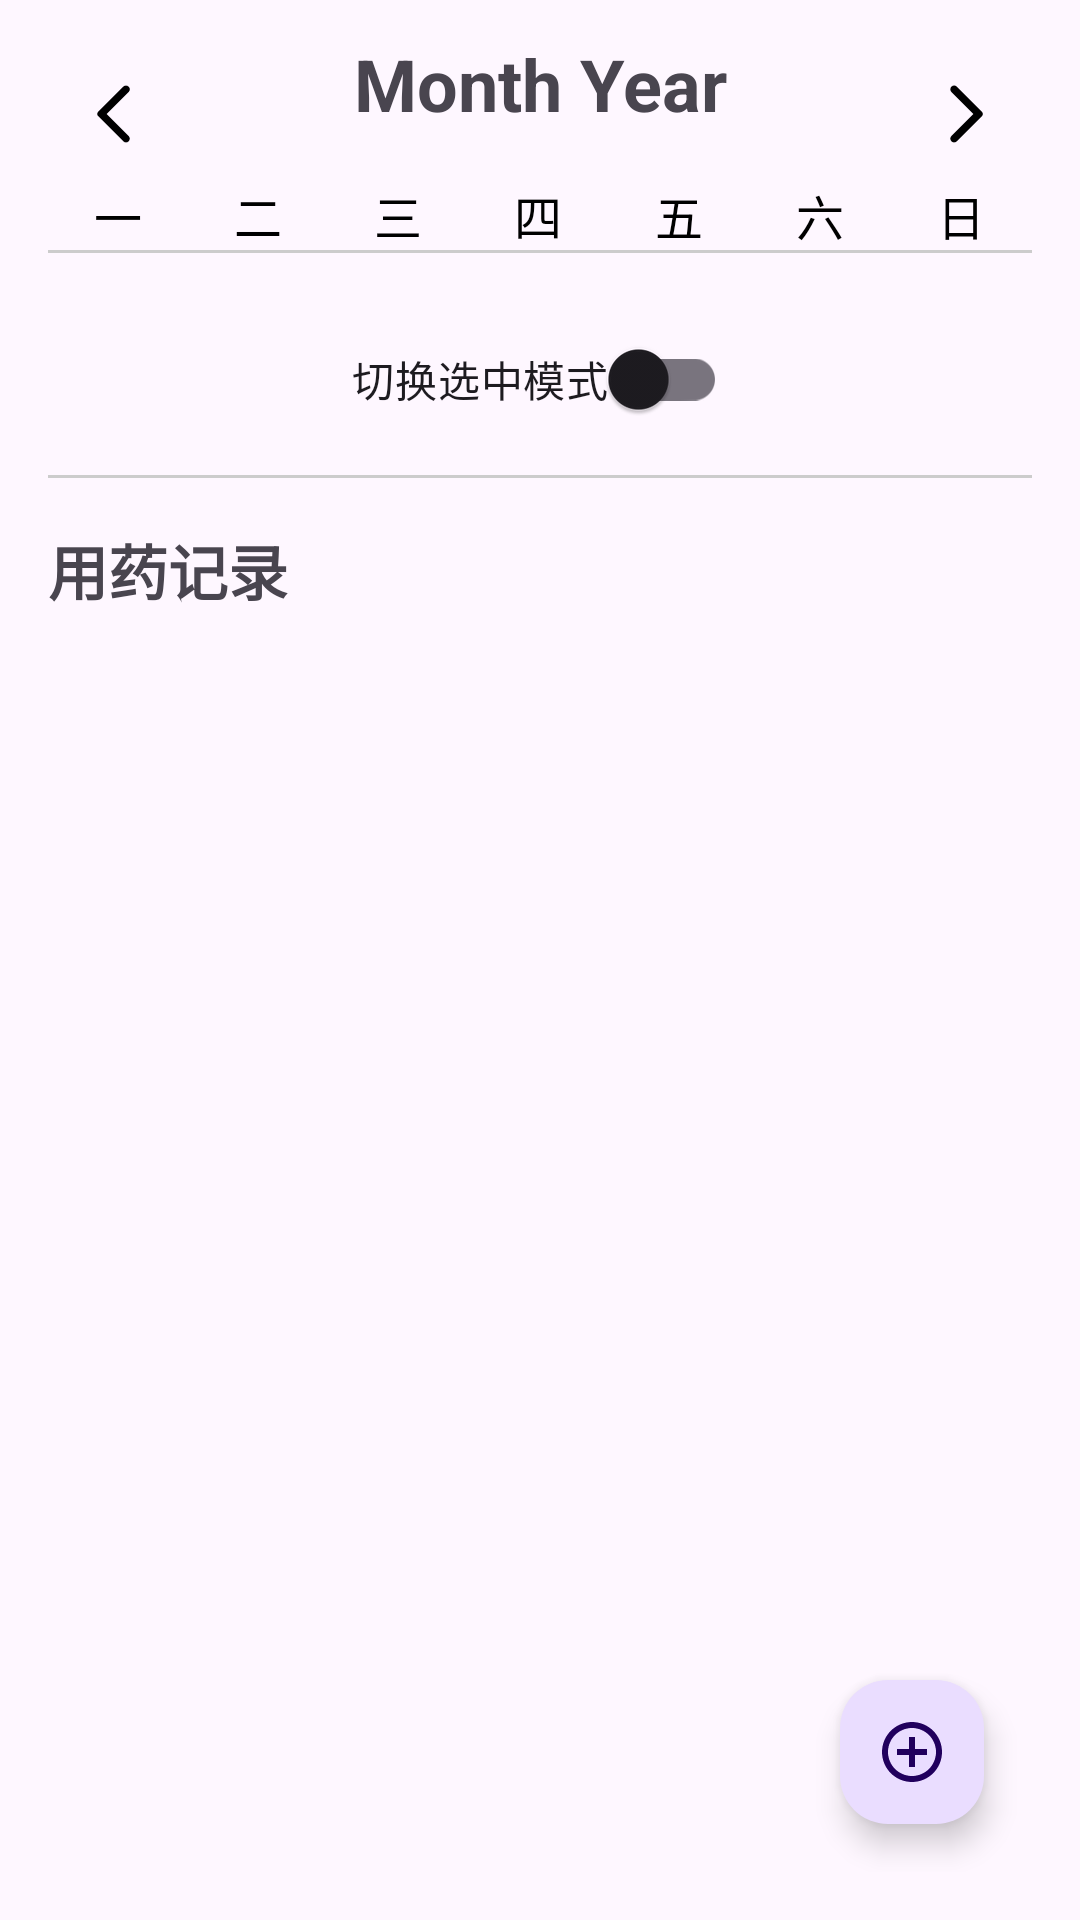

Point at icon controls on the screen. Image size 1080px x 1920px, points as [x,y].
Add Medication: [912,1752]
上一个月: [113,114]
下一个月: [966,114]
